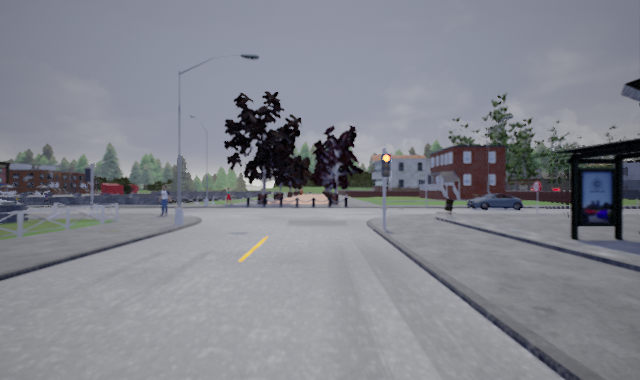pedestrian: (156, 184, 173, 216), (40, 191, 53, 209), (224, 186, 234, 204)
vehicle: (467, 193, 524, 211), (1, 193, 26, 214)
